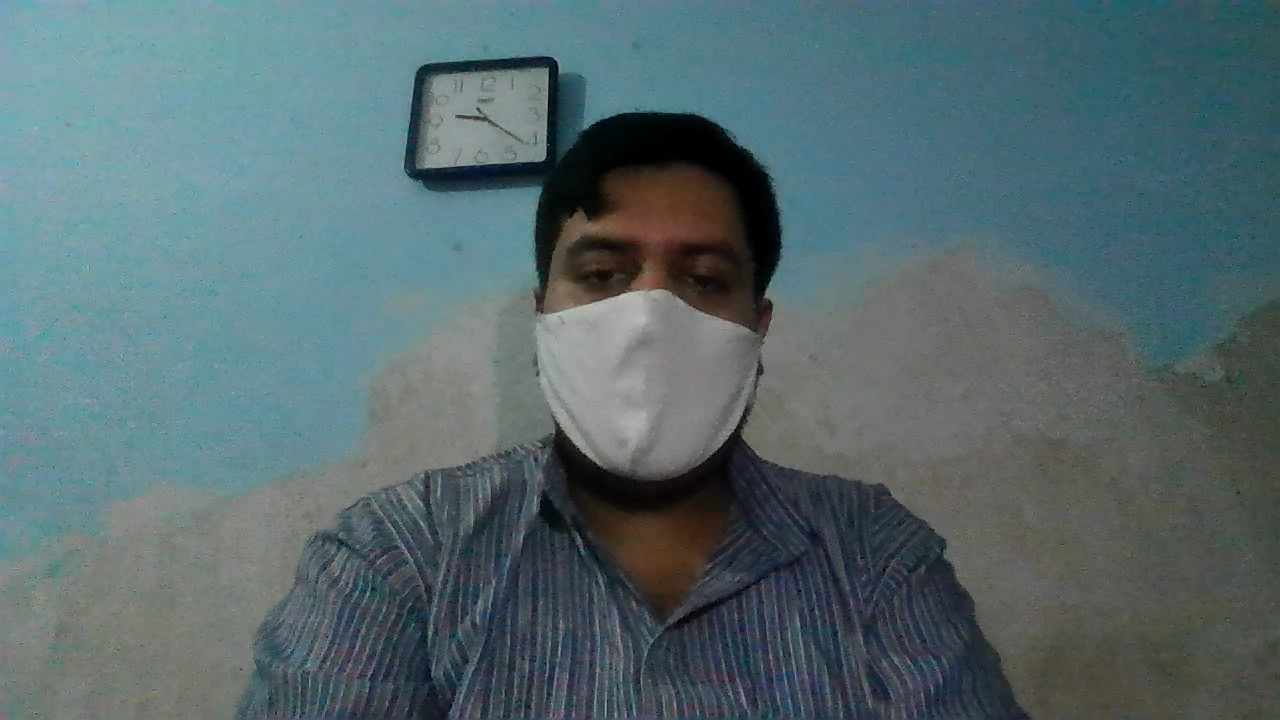Mask: (528, 286, 780, 482)
